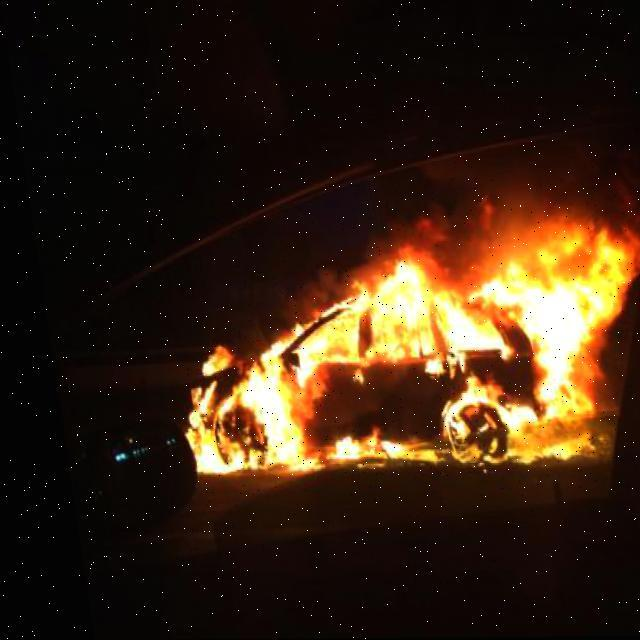Fire: (142, 217, 640, 477)
